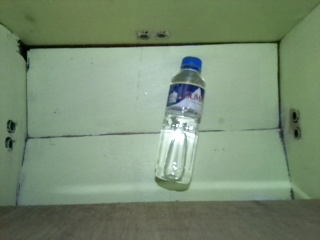bottle: (152, 55, 207, 186)
